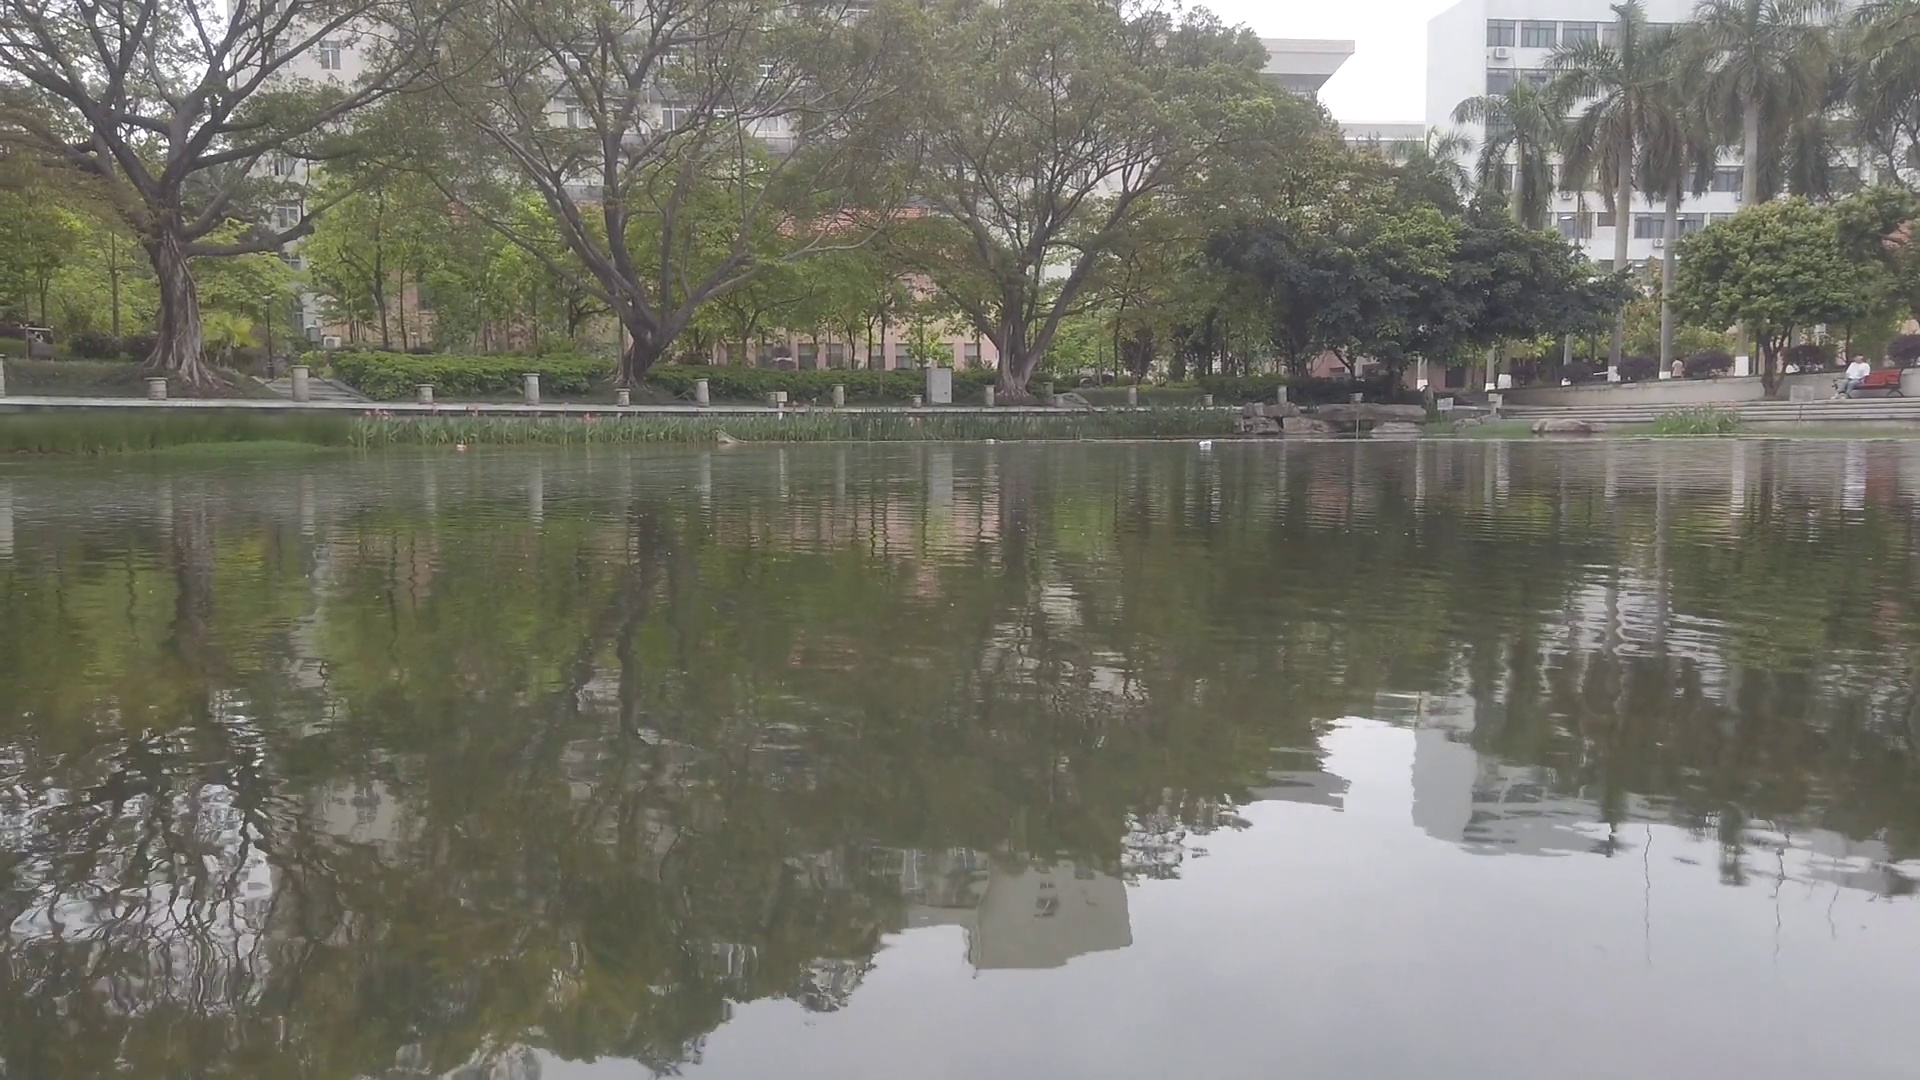bottle: (454, 442, 469, 455), (1197, 440, 1215, 448), (985, 436, 1000, 444)
